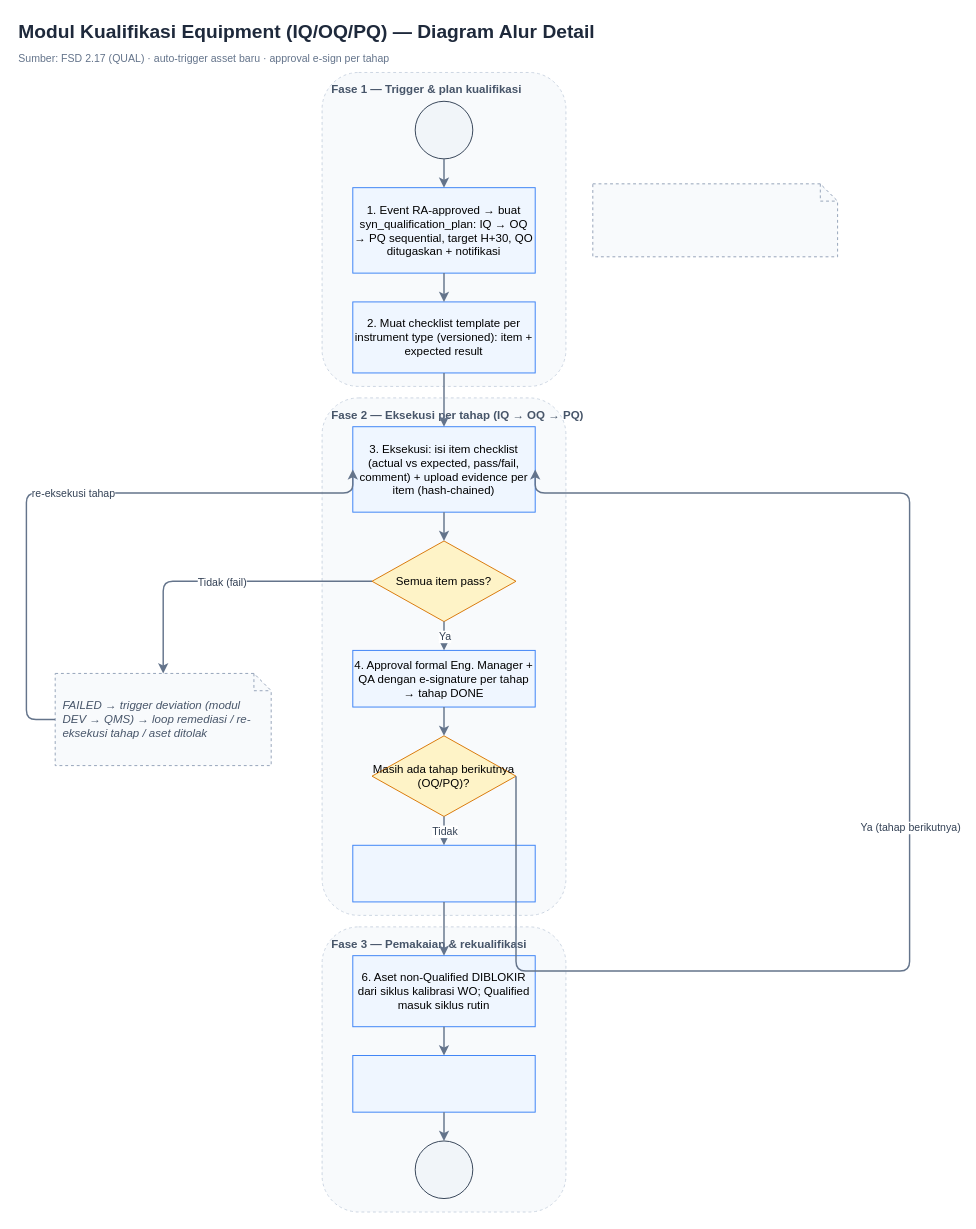
Some shapes in this 976 by 1229 pixel diagram are drawn without their labels. The centre of each missing label's shape, as x and y in pixels:
"5. SEMUA IQ/OQ/PQ approved → status Asset Master = 'Qualified' → plan completed" belongs at pixel 443 873.
"7. Requalification annual/biennial → kembali ke eksekusi tahap terkait (loop)" belongs at pixel 443 1083.
"Mulai (asset baru 'New Equipment' approved di RA)" belongs at pixel 443 129.
"Selesai" belongs at pixel 443 1169.
"State machine asset: REGISTERED → IQ_IN_PROGRESS → IQ_DONE → OQ → PQ → QUALIFIED" belongs at pixel 715 220.
